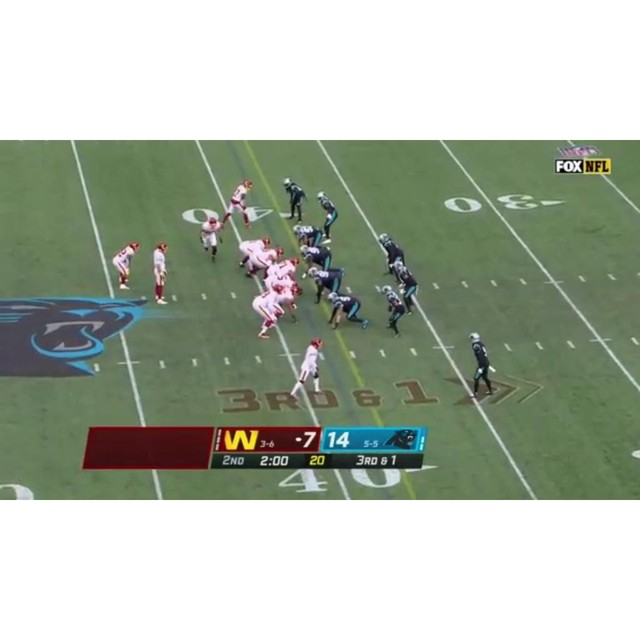american-football-player: (288, 338, 325, 402), (252, 283, 287, 340), (469, 333, 496, 398), (326, 292, 369, 331), (391, 261, 420, 315), (223, 178, 253, 229), (306, 266, 346, 304), (380, 285, 407, 339), (112, 241, 139, 290), (378, 233, 405, 278), (200, 215, 225, 262), (316, 191, 339, 242), (300, 245, 332, 279), (283, 177, 306, 223), (238, 236, 271, 268), (152, 242, 169, 304), (251, 246, 284, 276), (293, 225, 325, 249)
